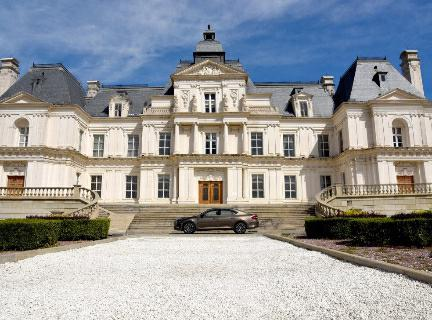斯柯达-速派: (169, 206, 262, 239)
